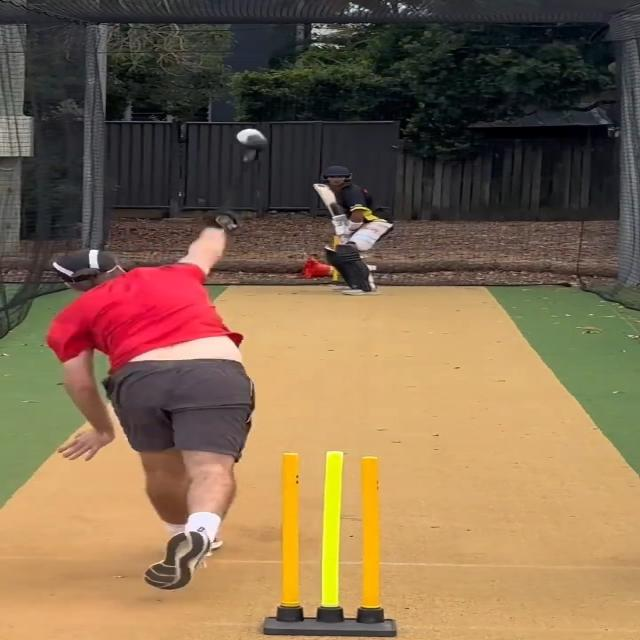stump: (263, 451, 397, 640)
